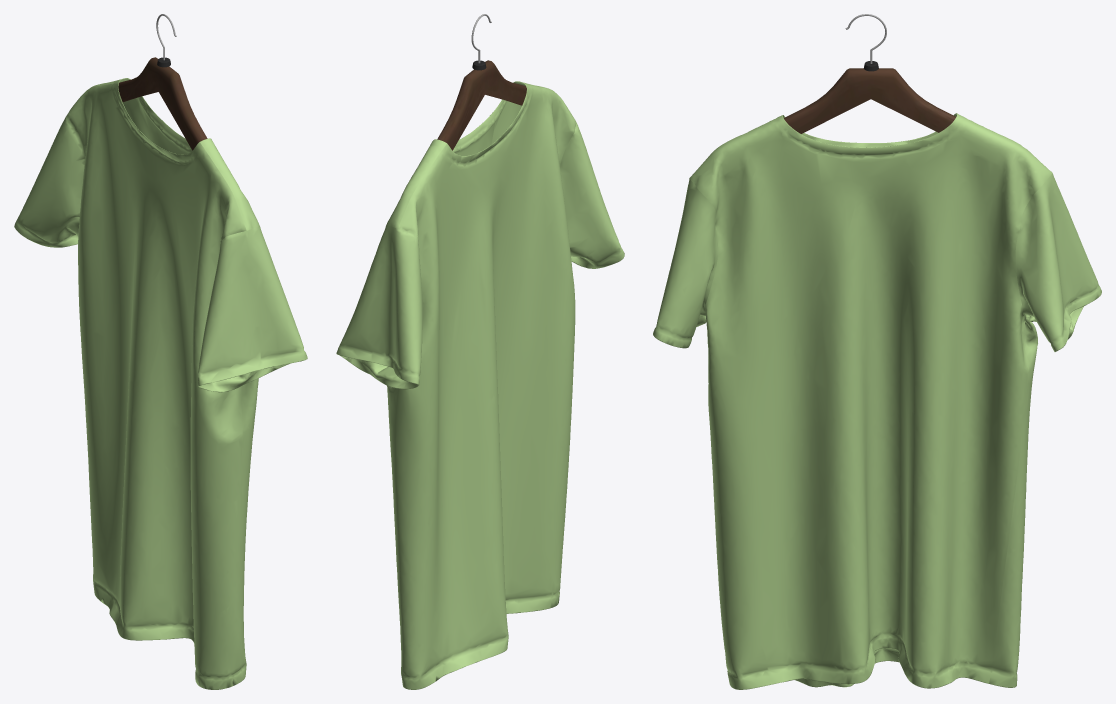
Rendered from tshirt.glb.
3 views of the same model, side by side, from view 1: azimuth 30°, elevation 25°; view 2: azimuth 150°, elevation 25°; view 3: azimuth 270°, elevation 25° (orthographic). The views are drawn at different scales.
Visible parts, largest first — view 1: Obj3d66_516286_2_747_0; view 2: Obj3d66_516286_2_747_0; view 3: Obj3d66_516286_2_747_0.
Boxes of the visible parts, bbox=[...] form: Obj3d66_516286_2_747_0: bbox=[14, 14, 307, 689]; Obj3d66_516286_2_747_0: bbox=[336, 14, 624, 689]; Obj3d66_516286_2_747_0: bbox=[653, 14, 1101, 689].
Size of the model in its own units: 0.169 by 0.9176 by 0.5569.
Materials: 5 (1 with a texture image).
